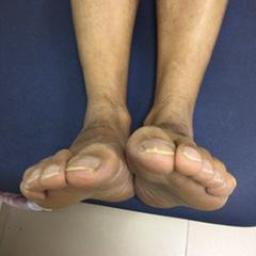Front View -Both Feet-: (13, 54, 241, 232)
